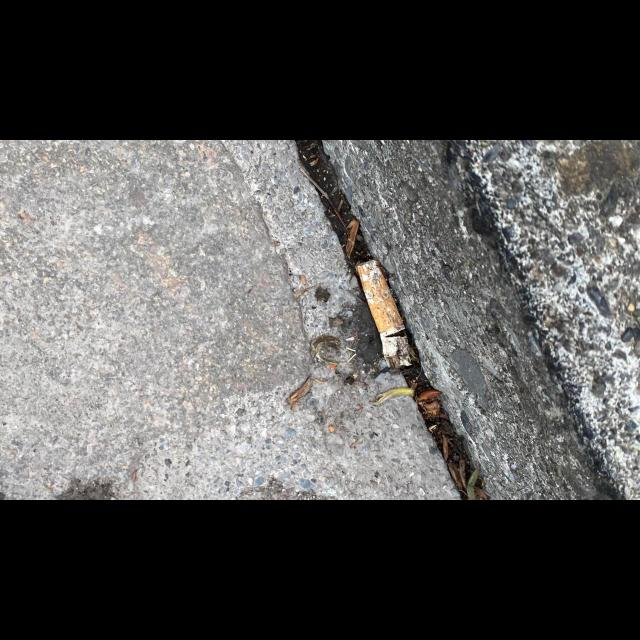cigarette: (355, 259, 413, 369)
